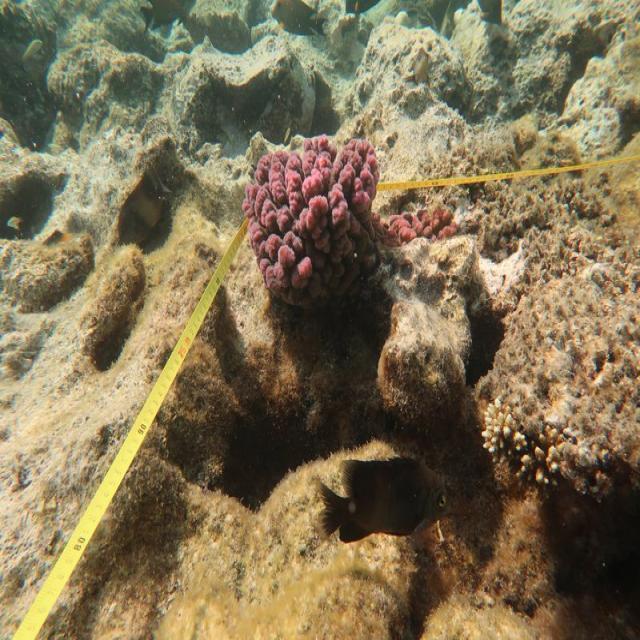Healthy Coral: (245, 128, 394, 311)
